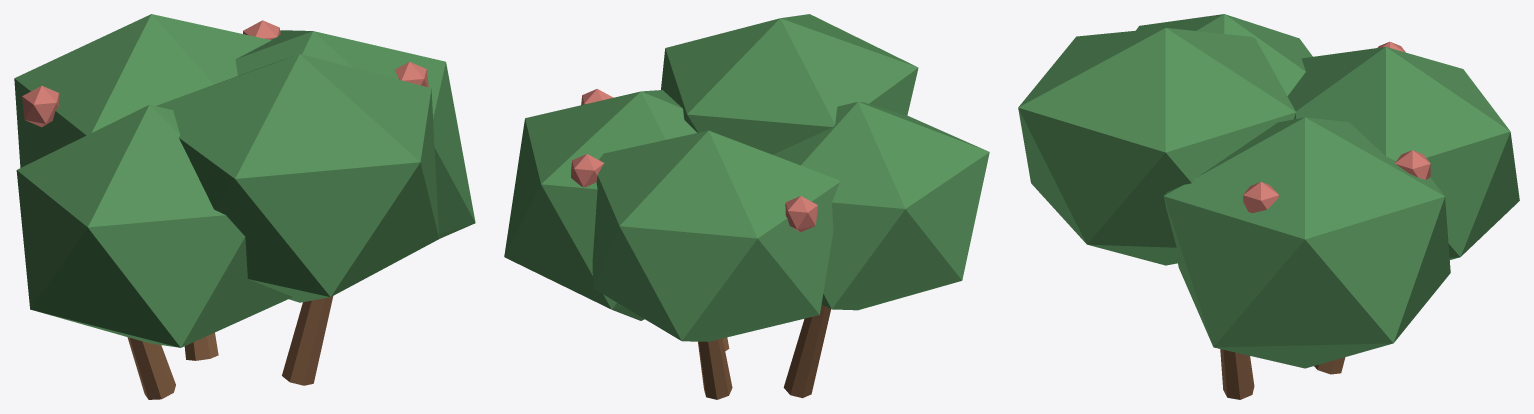
Rendered from arbusto.glb.
3 views of the same model, side by side, from view 1: azimuth 30°, elevation 25°; view 2: azimuth 150°, elevation 25°; view 3: azimuth 270°, elevation 25° (orthographic). The views are drawn at different scales.
Parts seen in each view (by area): view 1: bosque_arbusto; view 2: bosque_arbusto; view 3: bosque_arbusto.
Boxes of the visible parts, bbox=[...] form: bosque_arbusto: bbox=[14, 14, 475, 399]; bosque_arbusto: bbox=[504, 14, 989, 399]; bosque_arbusto: bbox=[1018, 14, 1519, 399].
Size of the model in its own units: 0.6892 by 0.5252 by 0.6839.
